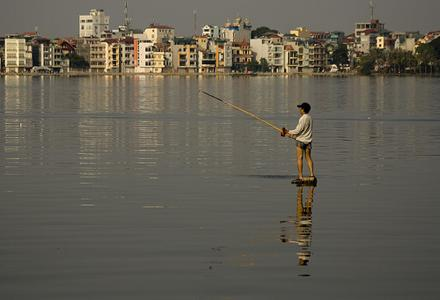person: (287, 102, 316, 180)
